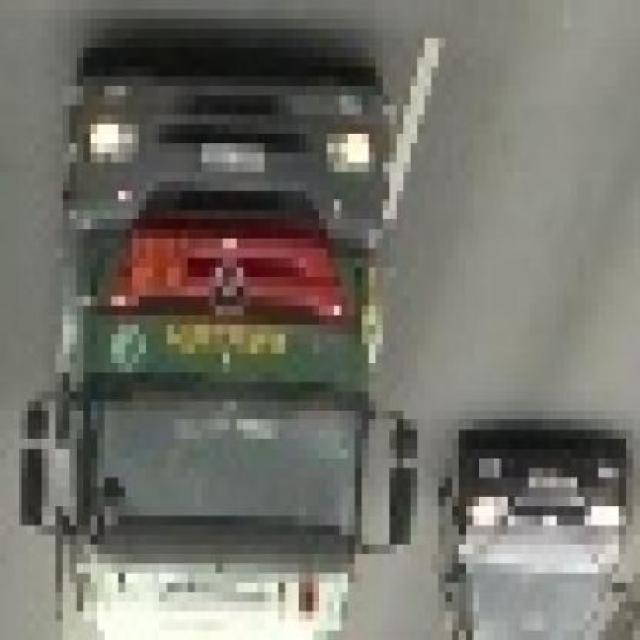truck: (23, 78, 426, 640)
